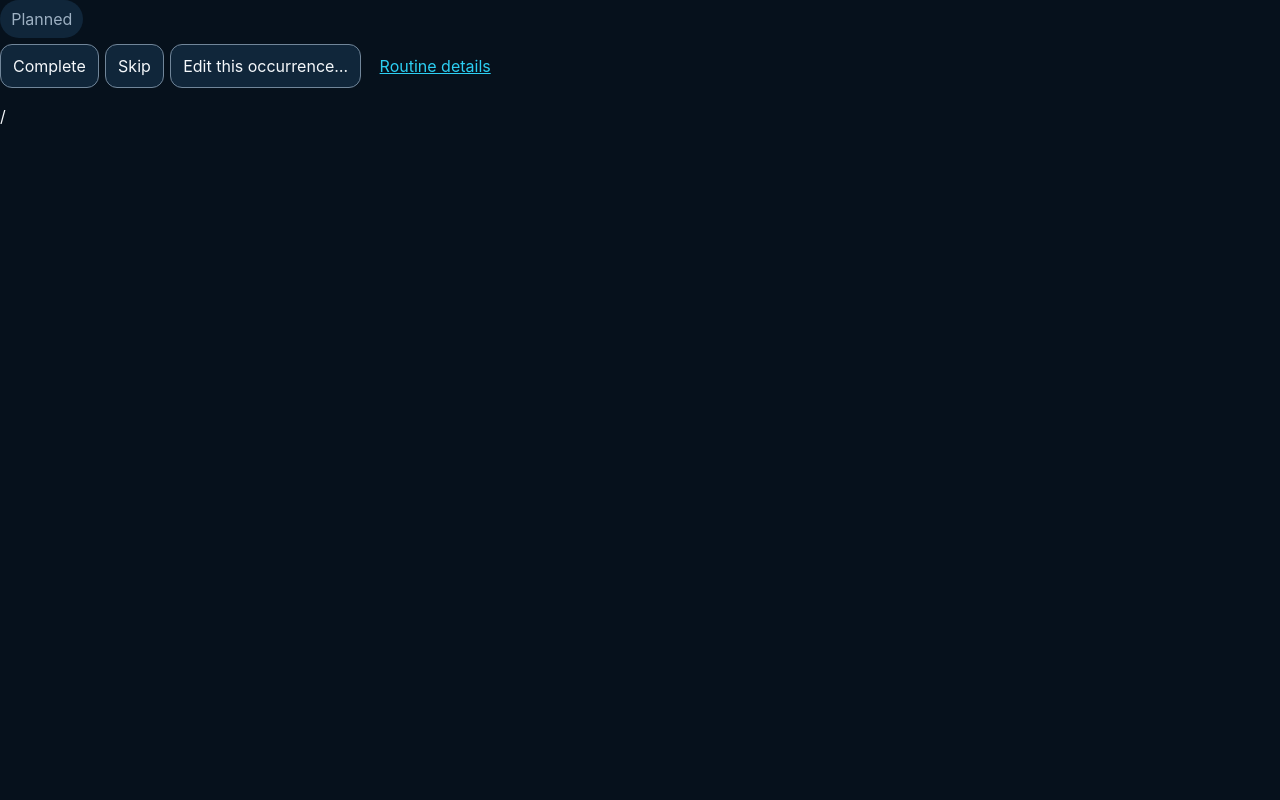
Test: Edit this occurrence › says calmly when the Routine could not be loaded
Click the button named "Edit this occurrence… Call home": (266, 66) [170,44,361,88]
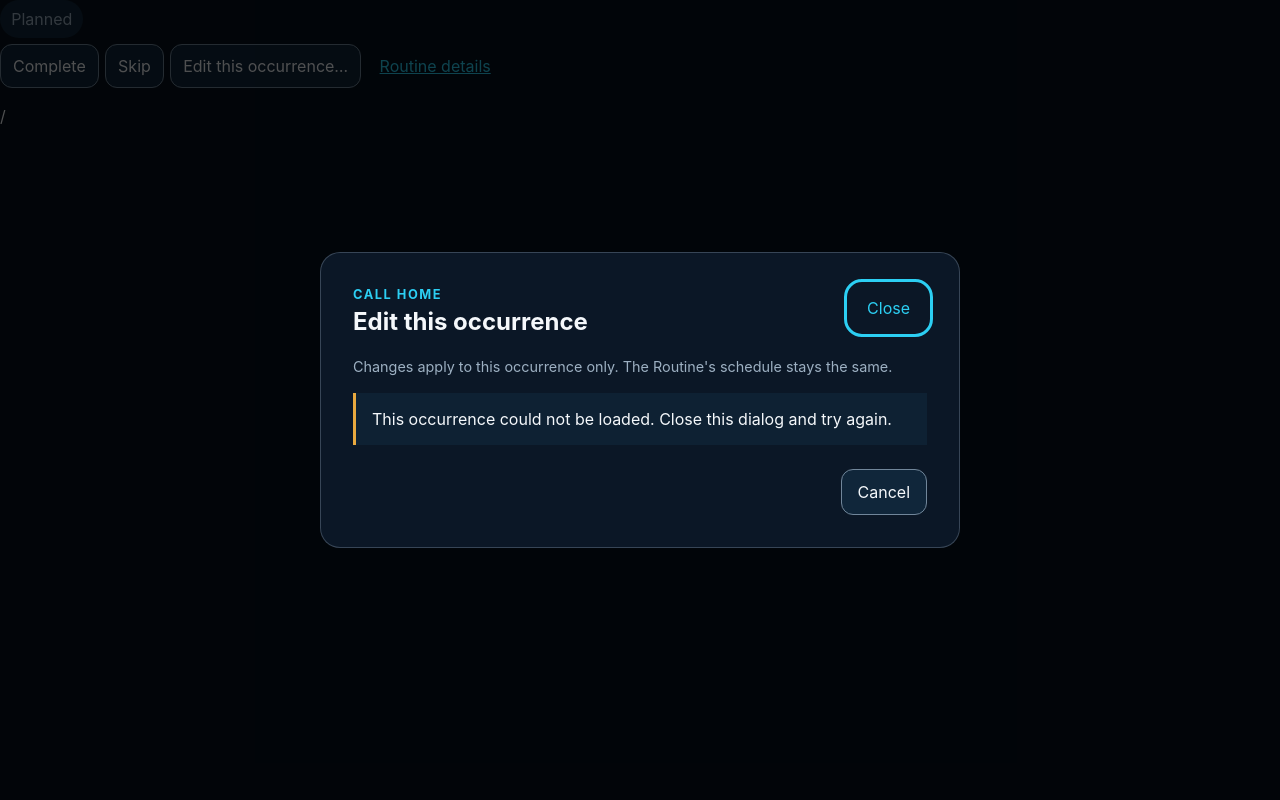
Now the message reads "This occurrence could not be loaded. Close this dialog and try again.", box [372,409,892,429]
